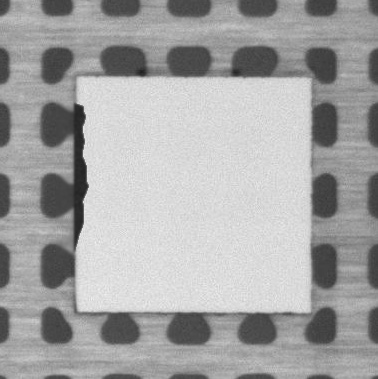DIE_BROKEN: (71, 96, 91, 256)
